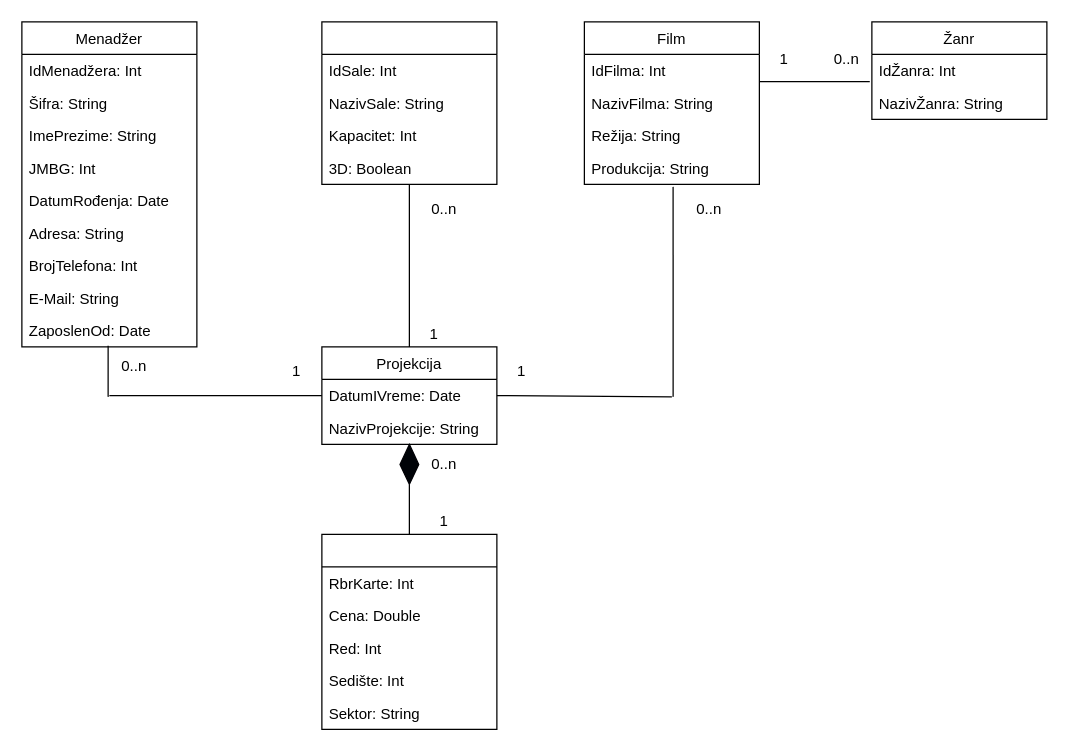
Some shapes in this 1069 by 755 pixel diagram are drawn without their labels. The box of each missing label's shape, as (x1, y1, x2, y2) in pixels:
Karta: (321, 533, 497, 729)
Sala: (321, 21, 497, 184)
